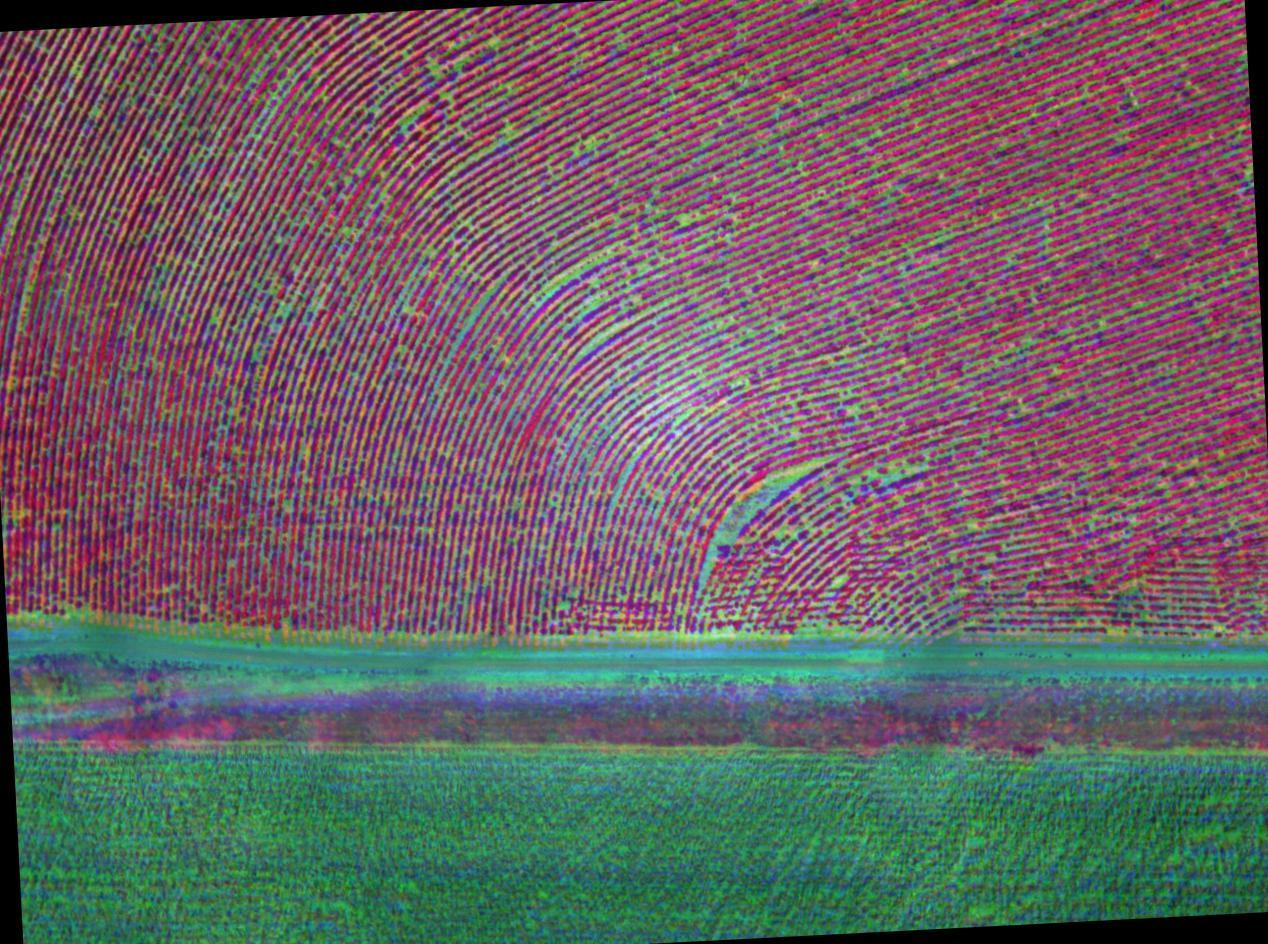dc: (386, 33, 529, 160), (691, 453, 830, 583), (133, 275, 308, 355), (543, 235, 642, 344), (211, 53, 336, 136), (848, 428, 931, 511)
